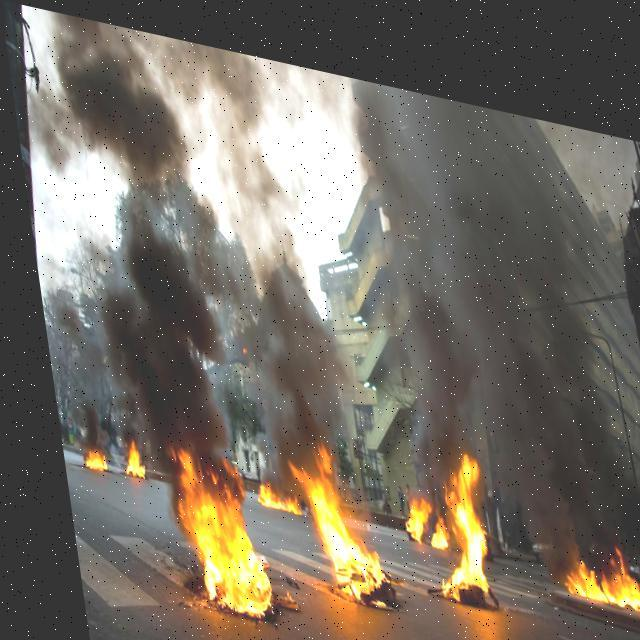Fire: (154, 436, 264, 614), (274, 423, 382, 601), (384, 422, 486, 592), (548, 516, 639, 607), (241, 468, 291, 510), (107, 432, 133, 478), (67, 438, 96, 472)
